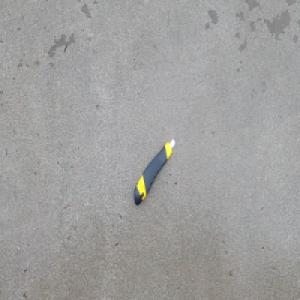Cutter: (133, 136, 176, 206)
